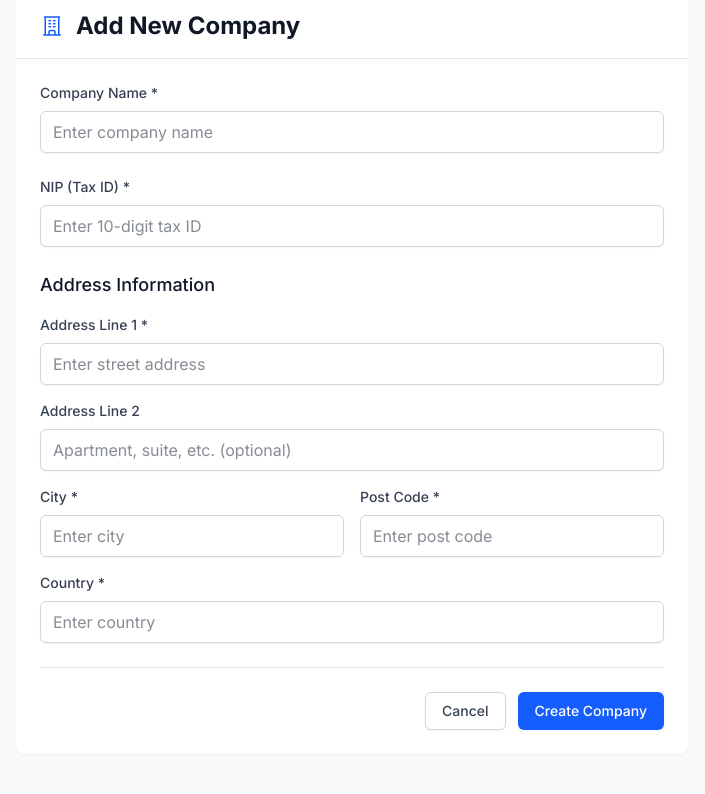
CompanyForm › clears an error once the field is edited
Click the button "Create Company": [591, 711] box [518, 692, 664, 730]
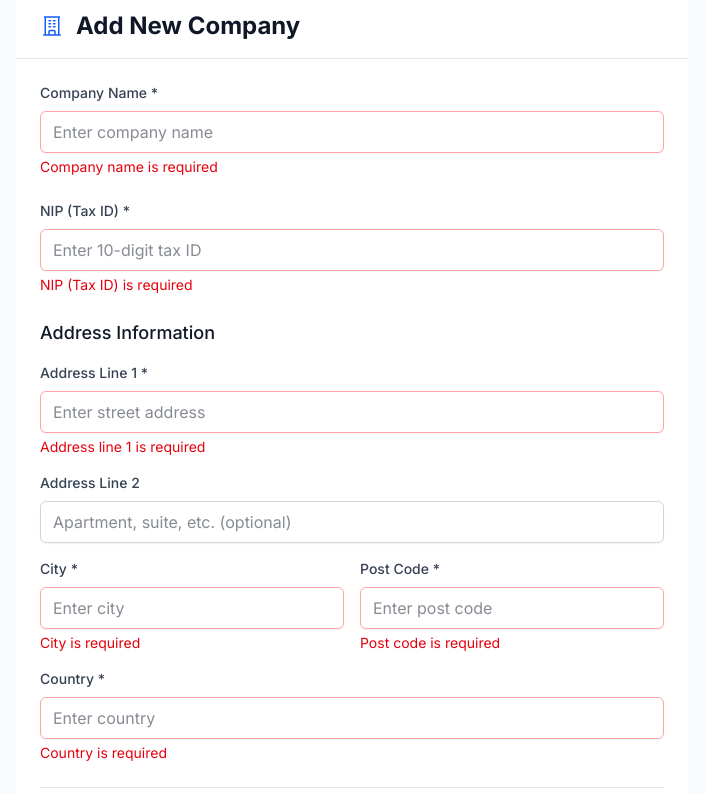
Now the text "City is required" is shown, box [40, 634, 140, 651]
In the field with id "city": [192, 608] box [40, 587, 344, 629], type "W"
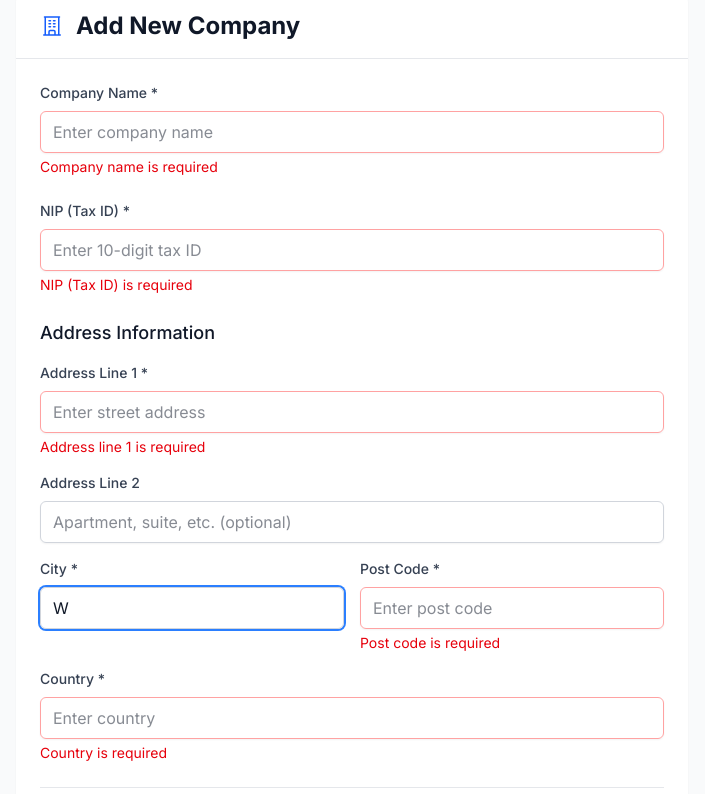
Now the text "City is required" is gone
